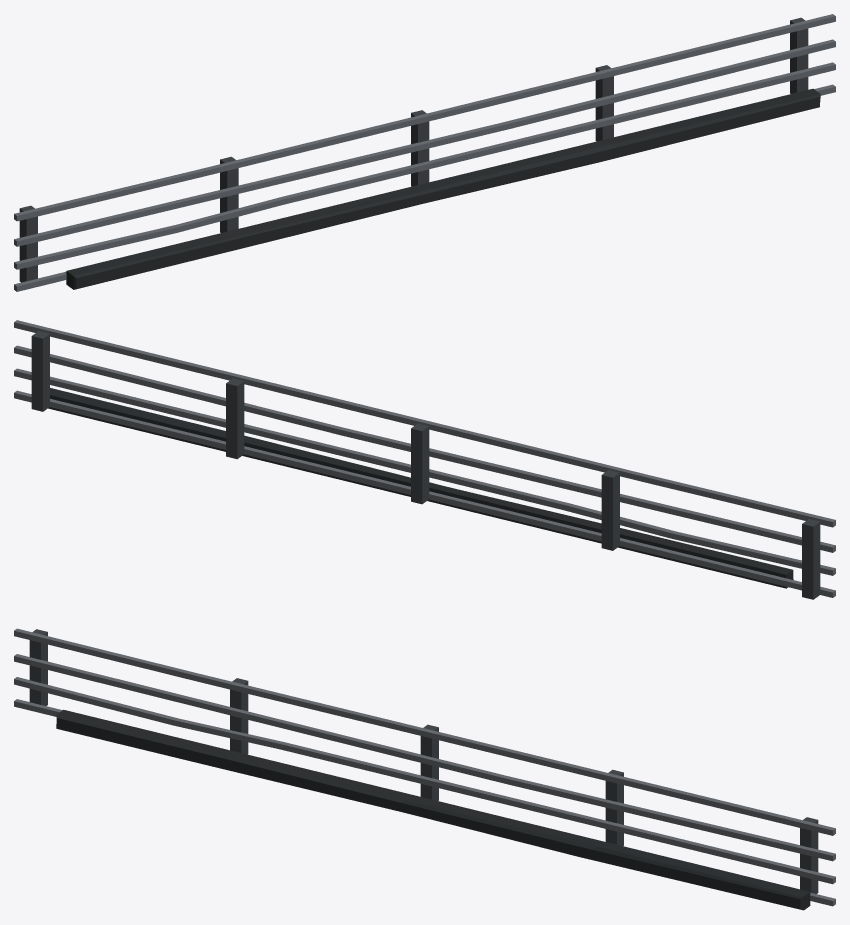
Rendered from SM_Sign_Mall_Backing_01.obj.
The picture shows the model from 3 angles, top to bottom: view 1: azimuth 30°, elevation 25°; view 2: azimuth 150°, elevation 25°; view 3: azimuth 330°, elevation 25°; orthographic projection.
Visible parts, largest first — view 1: SM_Sign_Mall_Backing_01_0; view 2: SM_Sign_Mall_Backing_01_0; view 3: SM_Sign_Mall_Backing_01_0.
Part boxes in pixels (bbox=[...]): SM_Sign_Mall_Backing_01_0: bbox=[14, 14, 835, 291]; SM_Sign_Mall_Backing_01_0: bbox=[14, 320, 835, 599]; SM_Sign_Mall_Backing_01_0: bbox=[14, 628, 835, 910].
Bounding box in the file's own units: 11.6 × 1.09 × 0.4455.
Materials: 1 (1 with a texture image).
